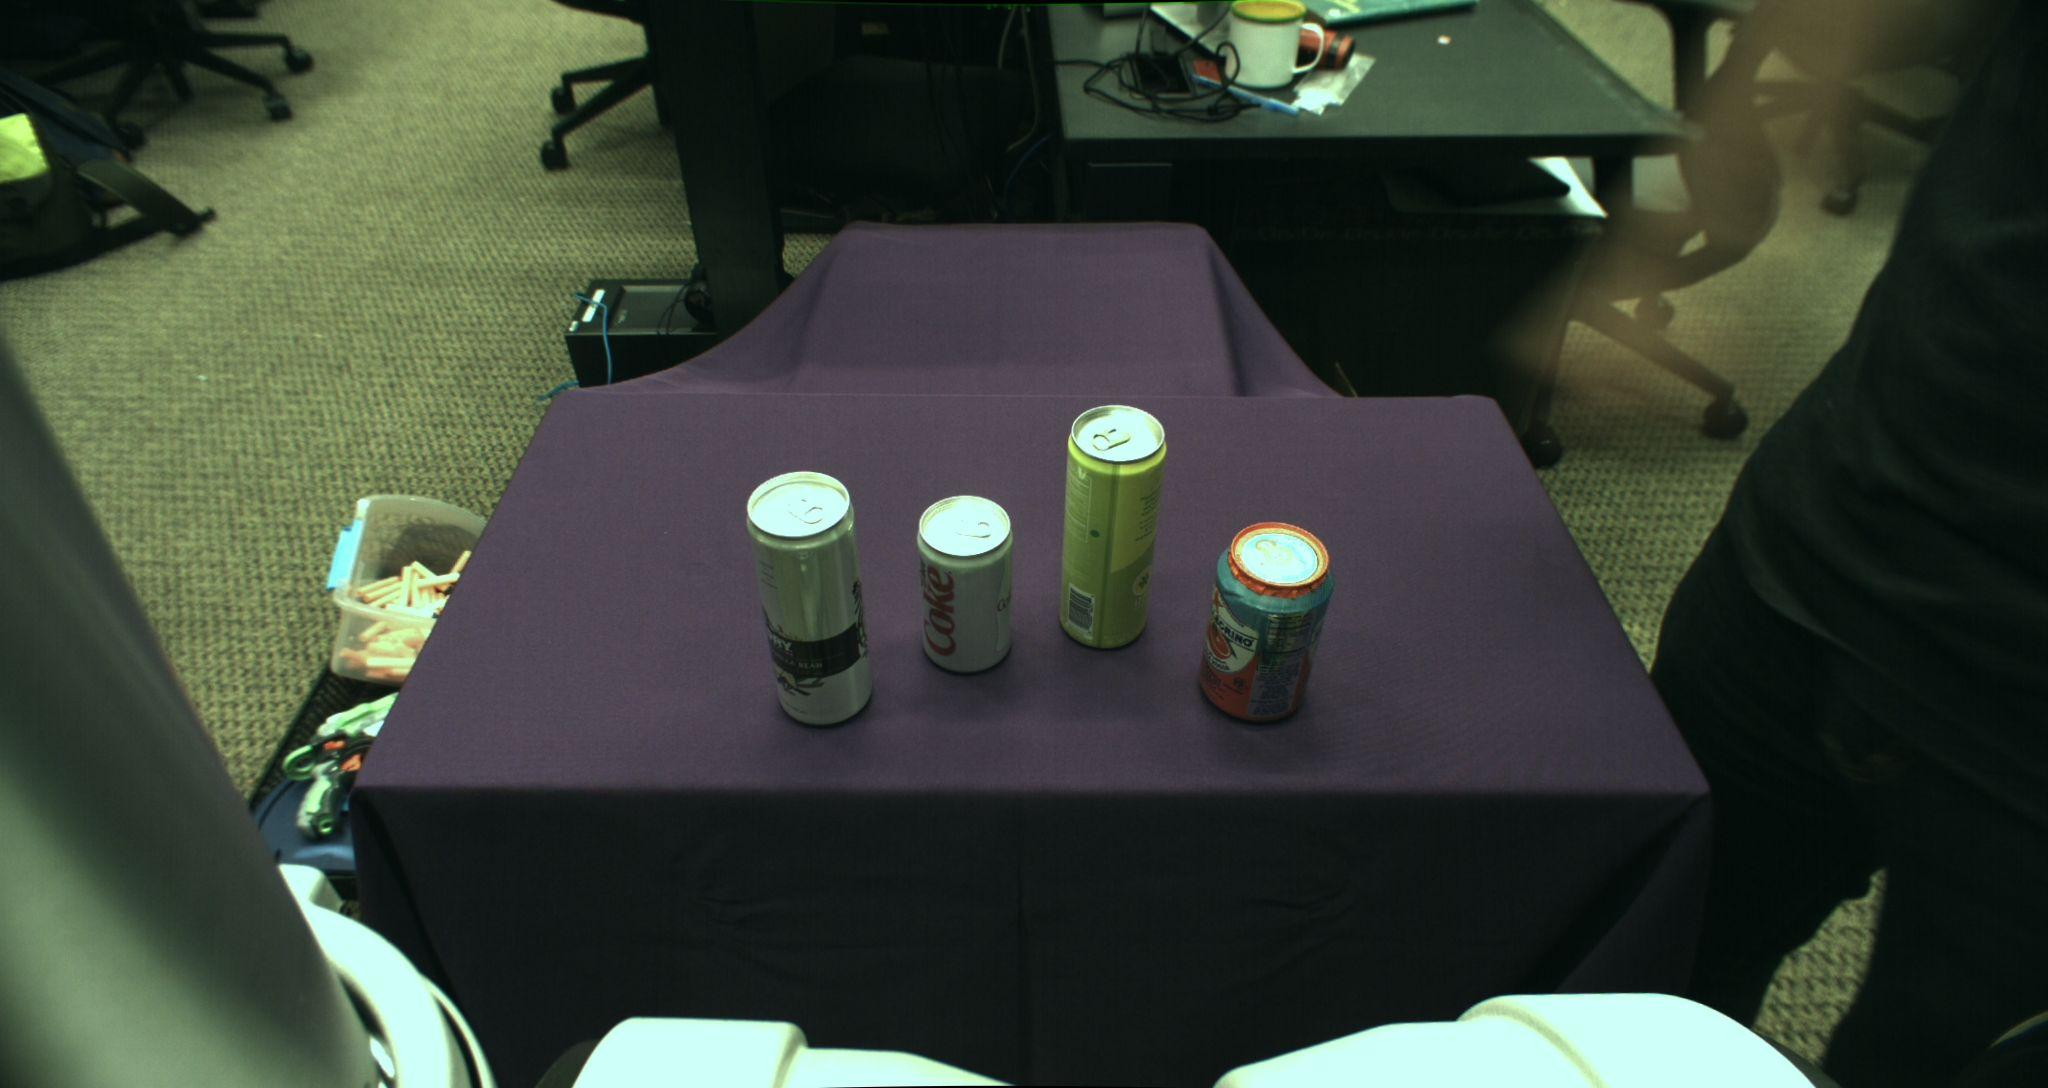can_diet_coke_small: (916, 493, 1013, 673)
can_dry_sparkling_vanilla_bean: (745, 470, 874, 726)
can_izze_fusions_lemon_lime: (1058, 402, 1168, 649)
can_sanpellegrino_blood_orange: (1197, 522, 1336, 725)
